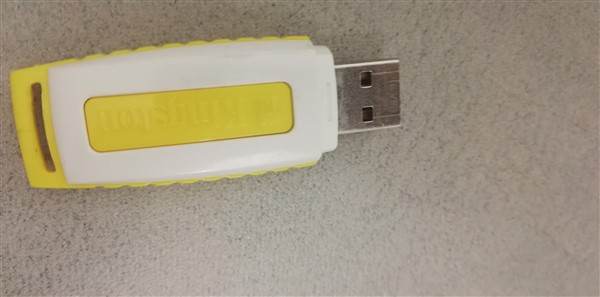flash disk: (1, 28, 407, 205)
